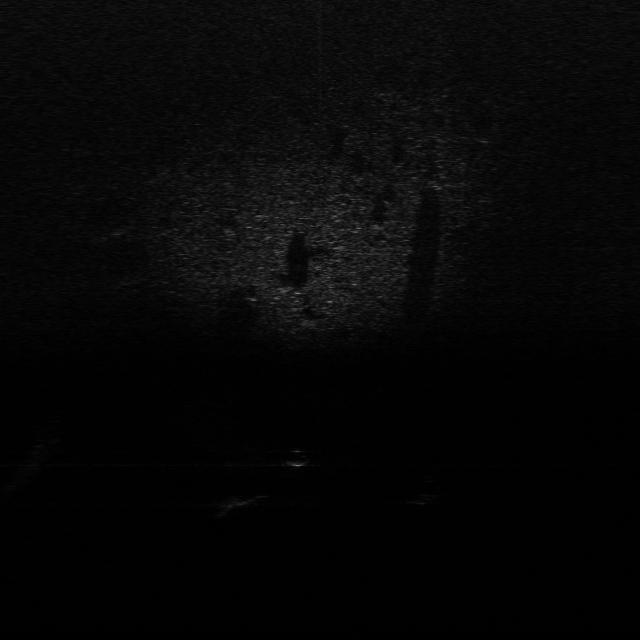ball: (287, 447, 312, 468)
square cage: (220, 490, 264, 513)
tyre: (404, 475, 447, 507)
